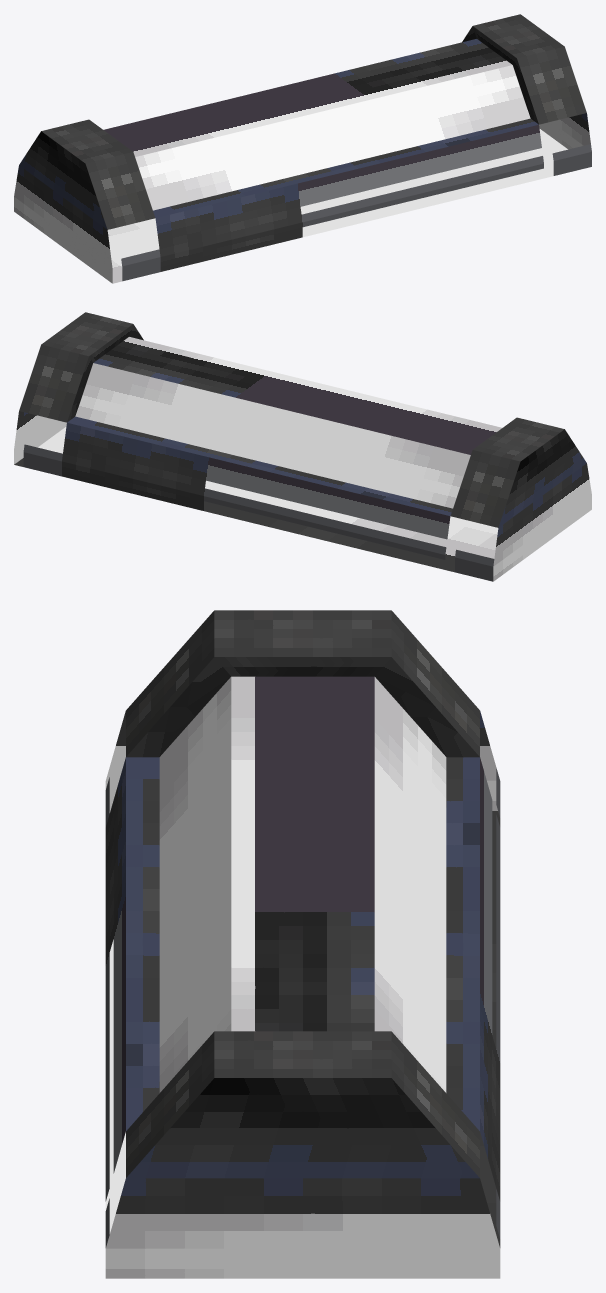
File: lamp_long.obj
3 views of the same model, one above another, from view 1: azimuth 30°, elevation 25°; view 2: azimuth 150°, elevation 25°; view 3: azimuth 270°, elevation 25° (orthographic). The views are drawn at different scales.
Visible parts, largest first — view 1: Cube; view 2: Cube; view 3: Cube.
Boxes of the visible parts, box(x1,y1,x2,y2) form: Cube: box(14, 14, 591, 283); Cube: box(14, 312, 591, 581); Cube: box(105, 610, 500, 1278).
Bounding box in the file's own units: 1 × 0.2 × 0.3563.
